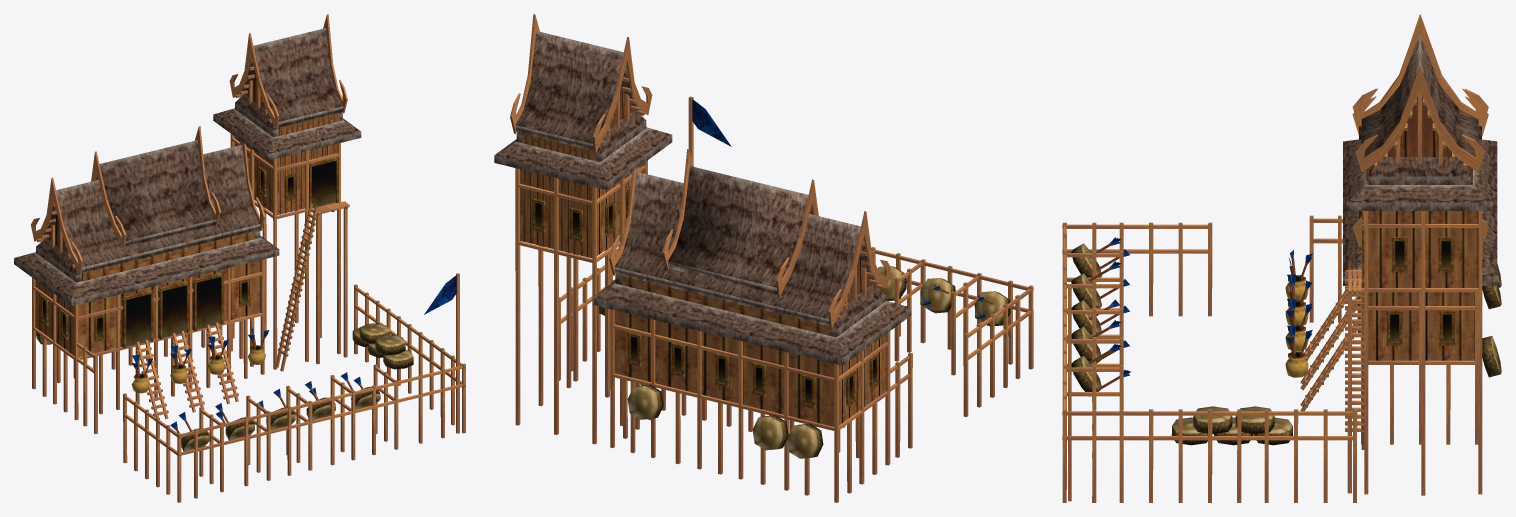
The model's file is range.dae.
The picture shows the model from 3 angles, left to right: view 1: azimuth 30°, elevation 25°; view 2: azimuth 150°, elevation 25°; view 3: azimuth 270°, elevation 25°; orthographic projection. The views are drawn at different scales.
Visible parts, largest first — view 1: range; view 2: range; view 3: range.
Boxes of the visible parts, left/top/right/bottom form: range: left=14, top=14, right=465, bottom=502; range: left=494, top=14, right=1033, bottom=502; range: left=1062, top=14, right=1501, bottom=502.
Bounding box in the file's own units: 25.43 × 24.74 × 27.02.
